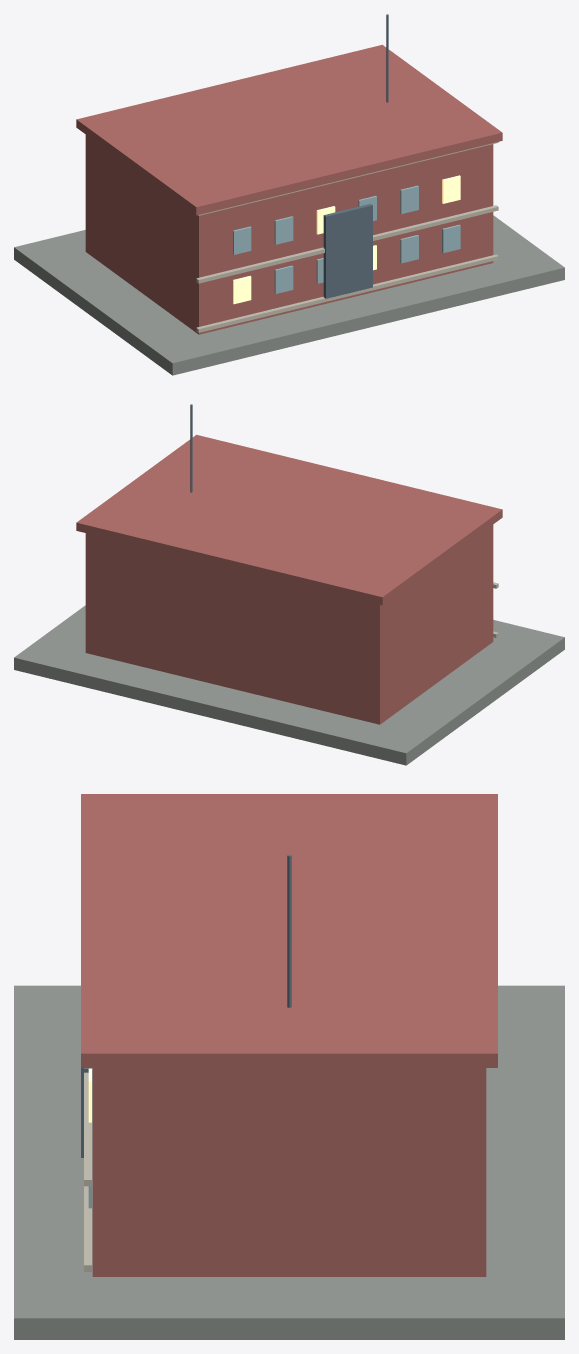
File: fort.glb
The picture shows the model from 3 angles, top to bottom: view 1: azimuth 30°, elevation 25°; view 2: azimuth 150°, elevation 25°; view 3: azimuth 270°, elevation 25°; orthographic projection. The views are drawn at different scales.
Visible parts, largest first — view 1: fort; view 2: fort; view 3: fort.
Boxes of the visible parts, x1=… form: fort: x1=14, y1=14, x2=564, y2=375; fort: x1=14, y1=404, x2=564, y2=765; fort: x1=14, y1=794, x2=564, y2=1339.
Size of the model in its own units: 20 by 11.25 by 14.
